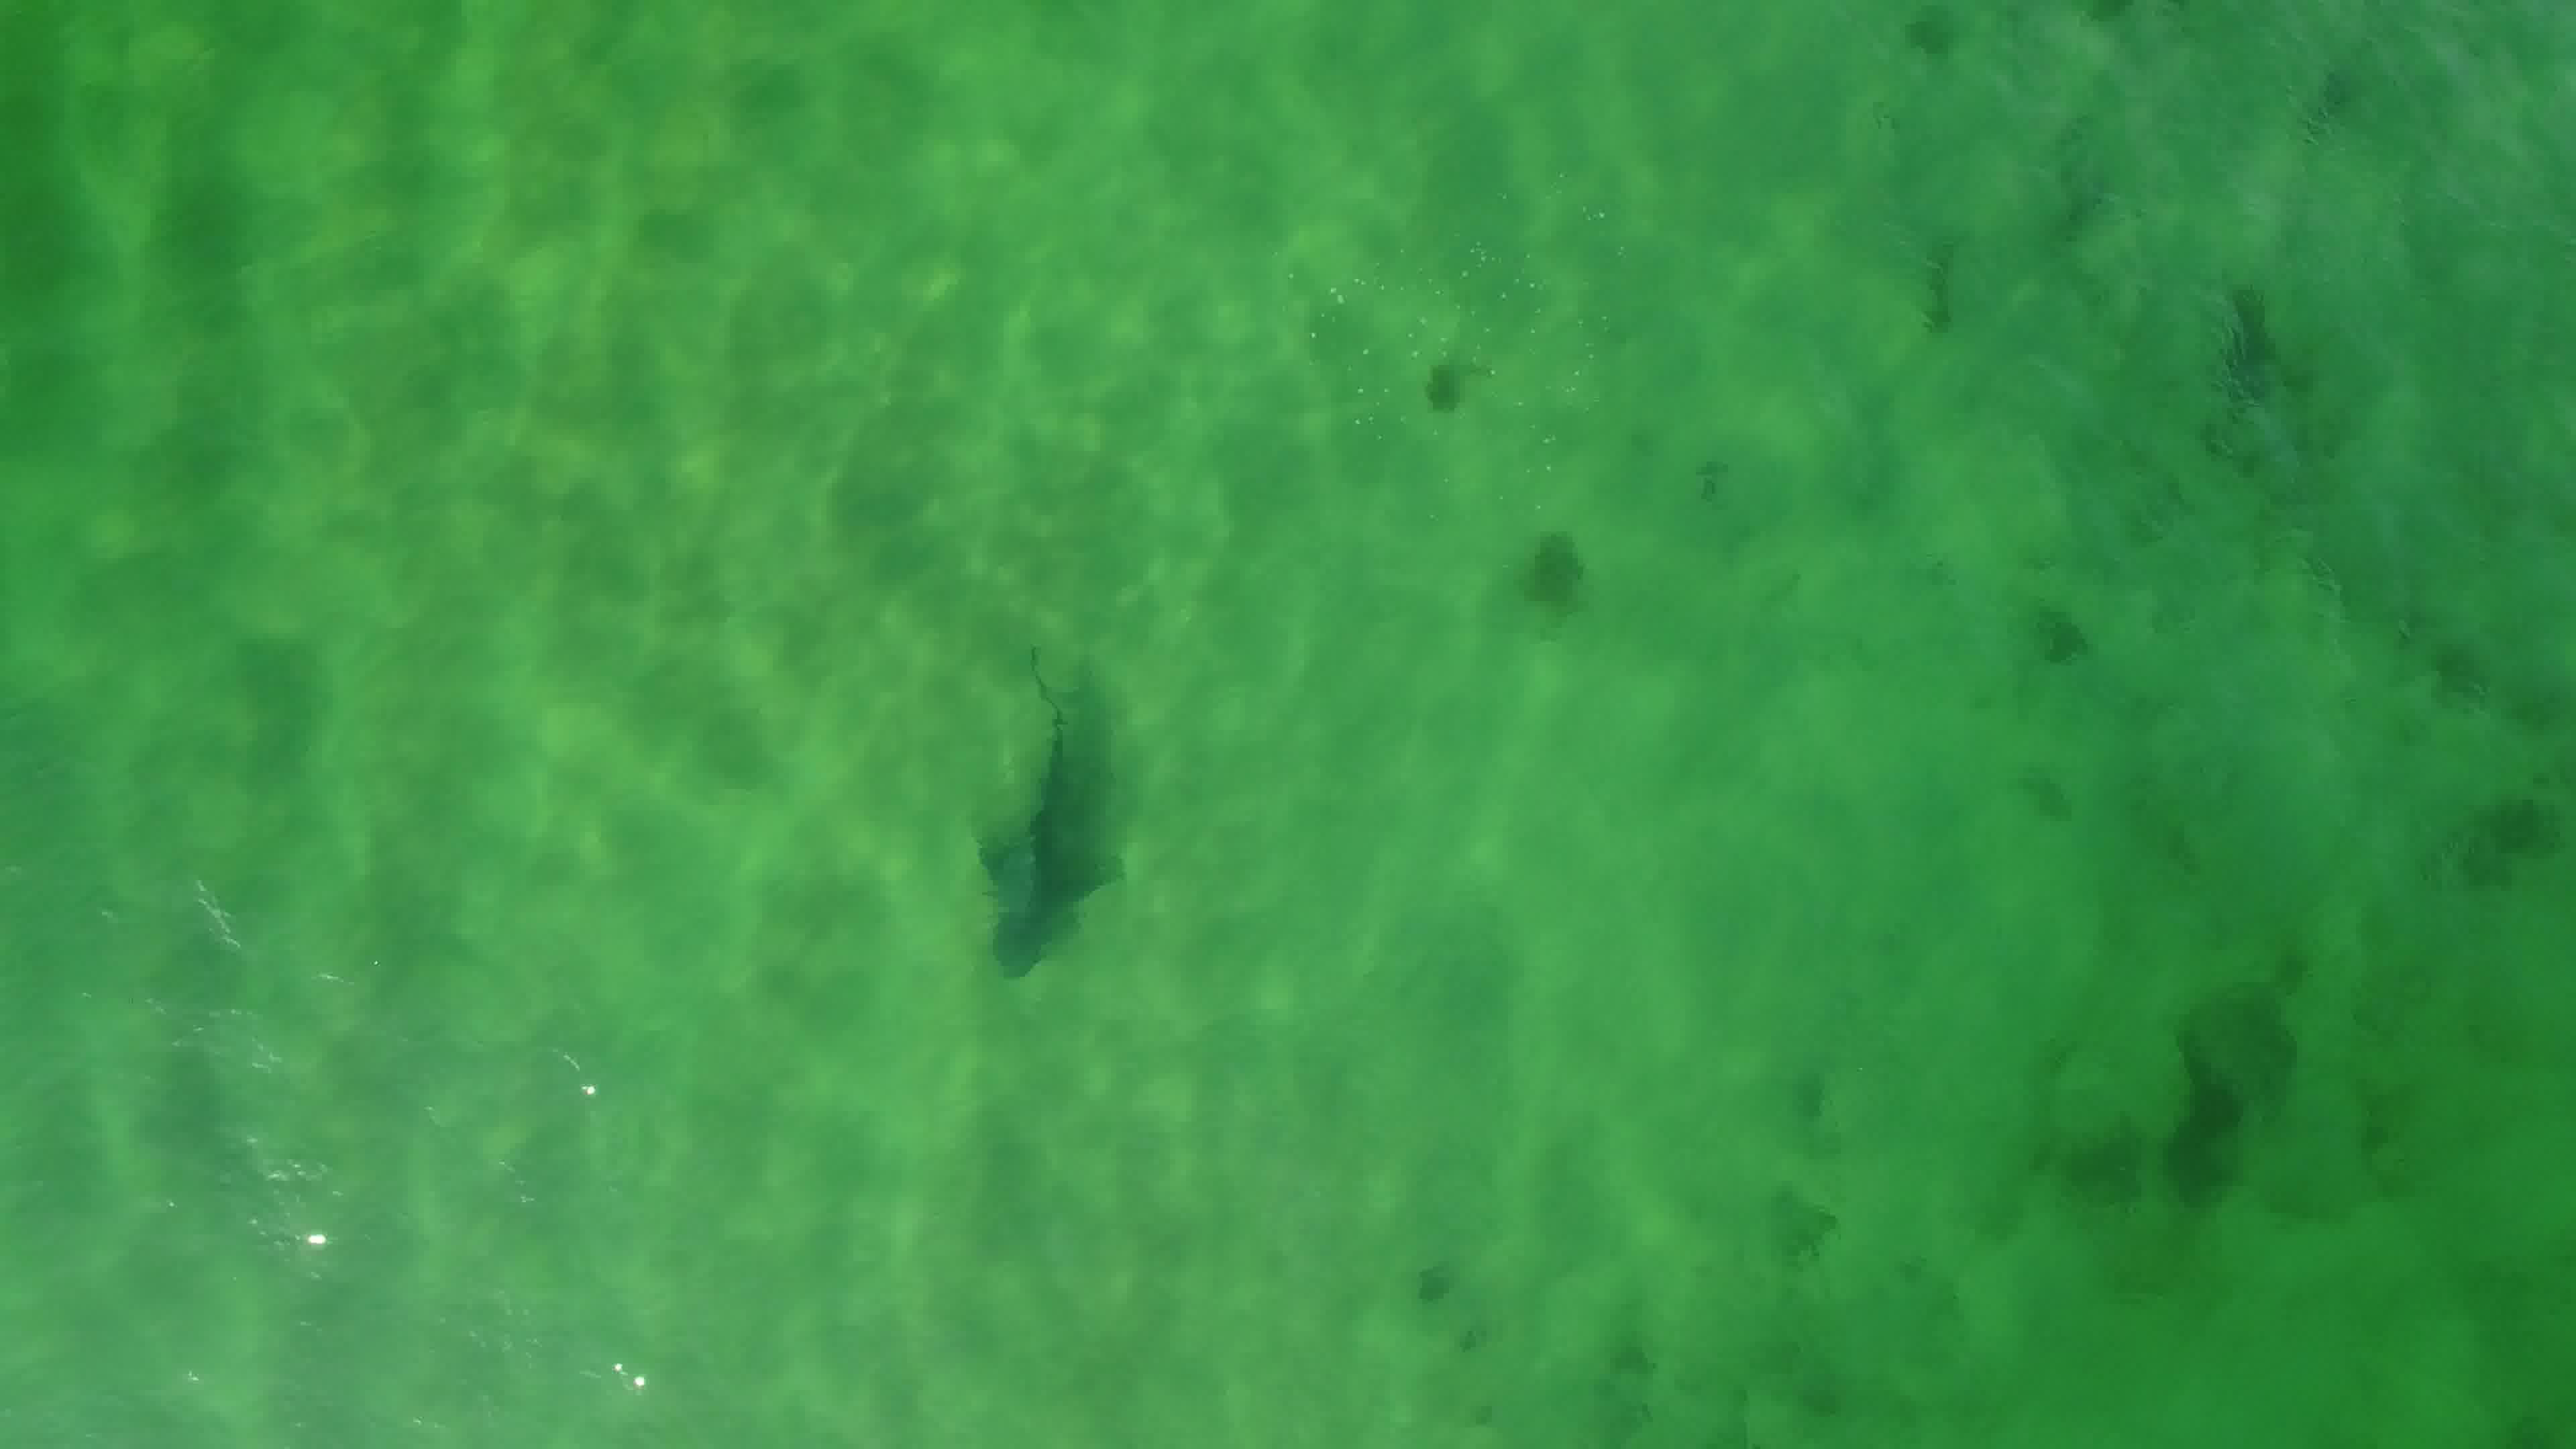shark: (959, 642, 1127, 980)
